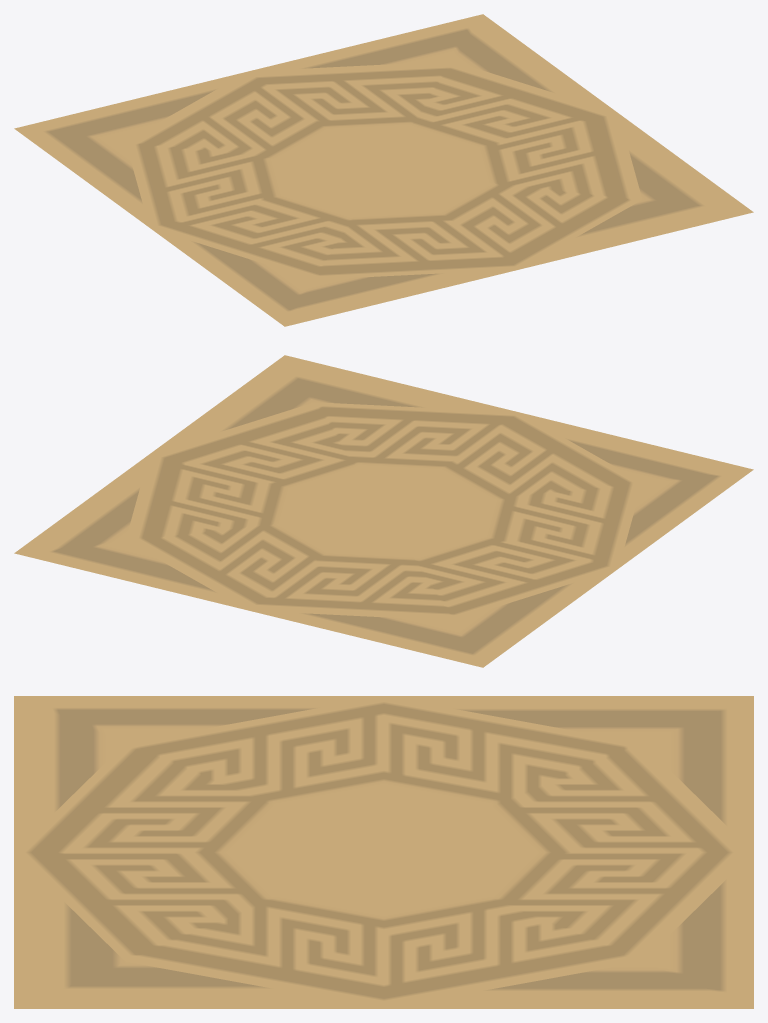
The model's file is ST_Env_Floor_04.fbx.
3 renders of one model, top to bottom at view 1: azimuth 30°, elevation 25°; view 2: azimuth 150°, elevation 25°; view 3: azimuth 270°, elevation 25°, orthographic. The views are drawn at different scales.
Parts seen in each view (by area): view 1: ST_Env_Floor_04; view 2: ST_Env_Floor_04; view 3: ST_Env_Floor_04.
Boxes of the visible parts, x1,y1,x2,y2 form: ST_Env_Floor_04: (14,14,753,326); ST_Env_Floor_04: (14,355,753,667); ST_Env_Floor_04: (14,696,753,1008).
Size of the model in its own units: 5 by 7.11e-15 by 5.
